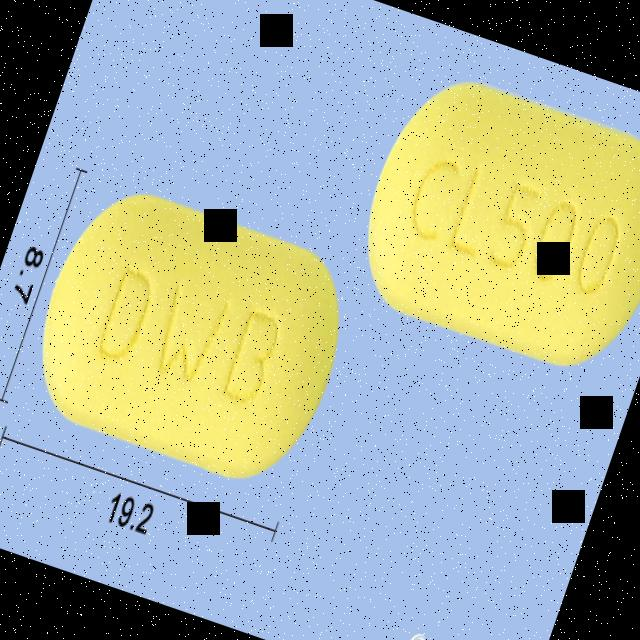Daewoong Bio Clarithromycin: (12, 168, 370, 502), (339, 61, 640, 386)
